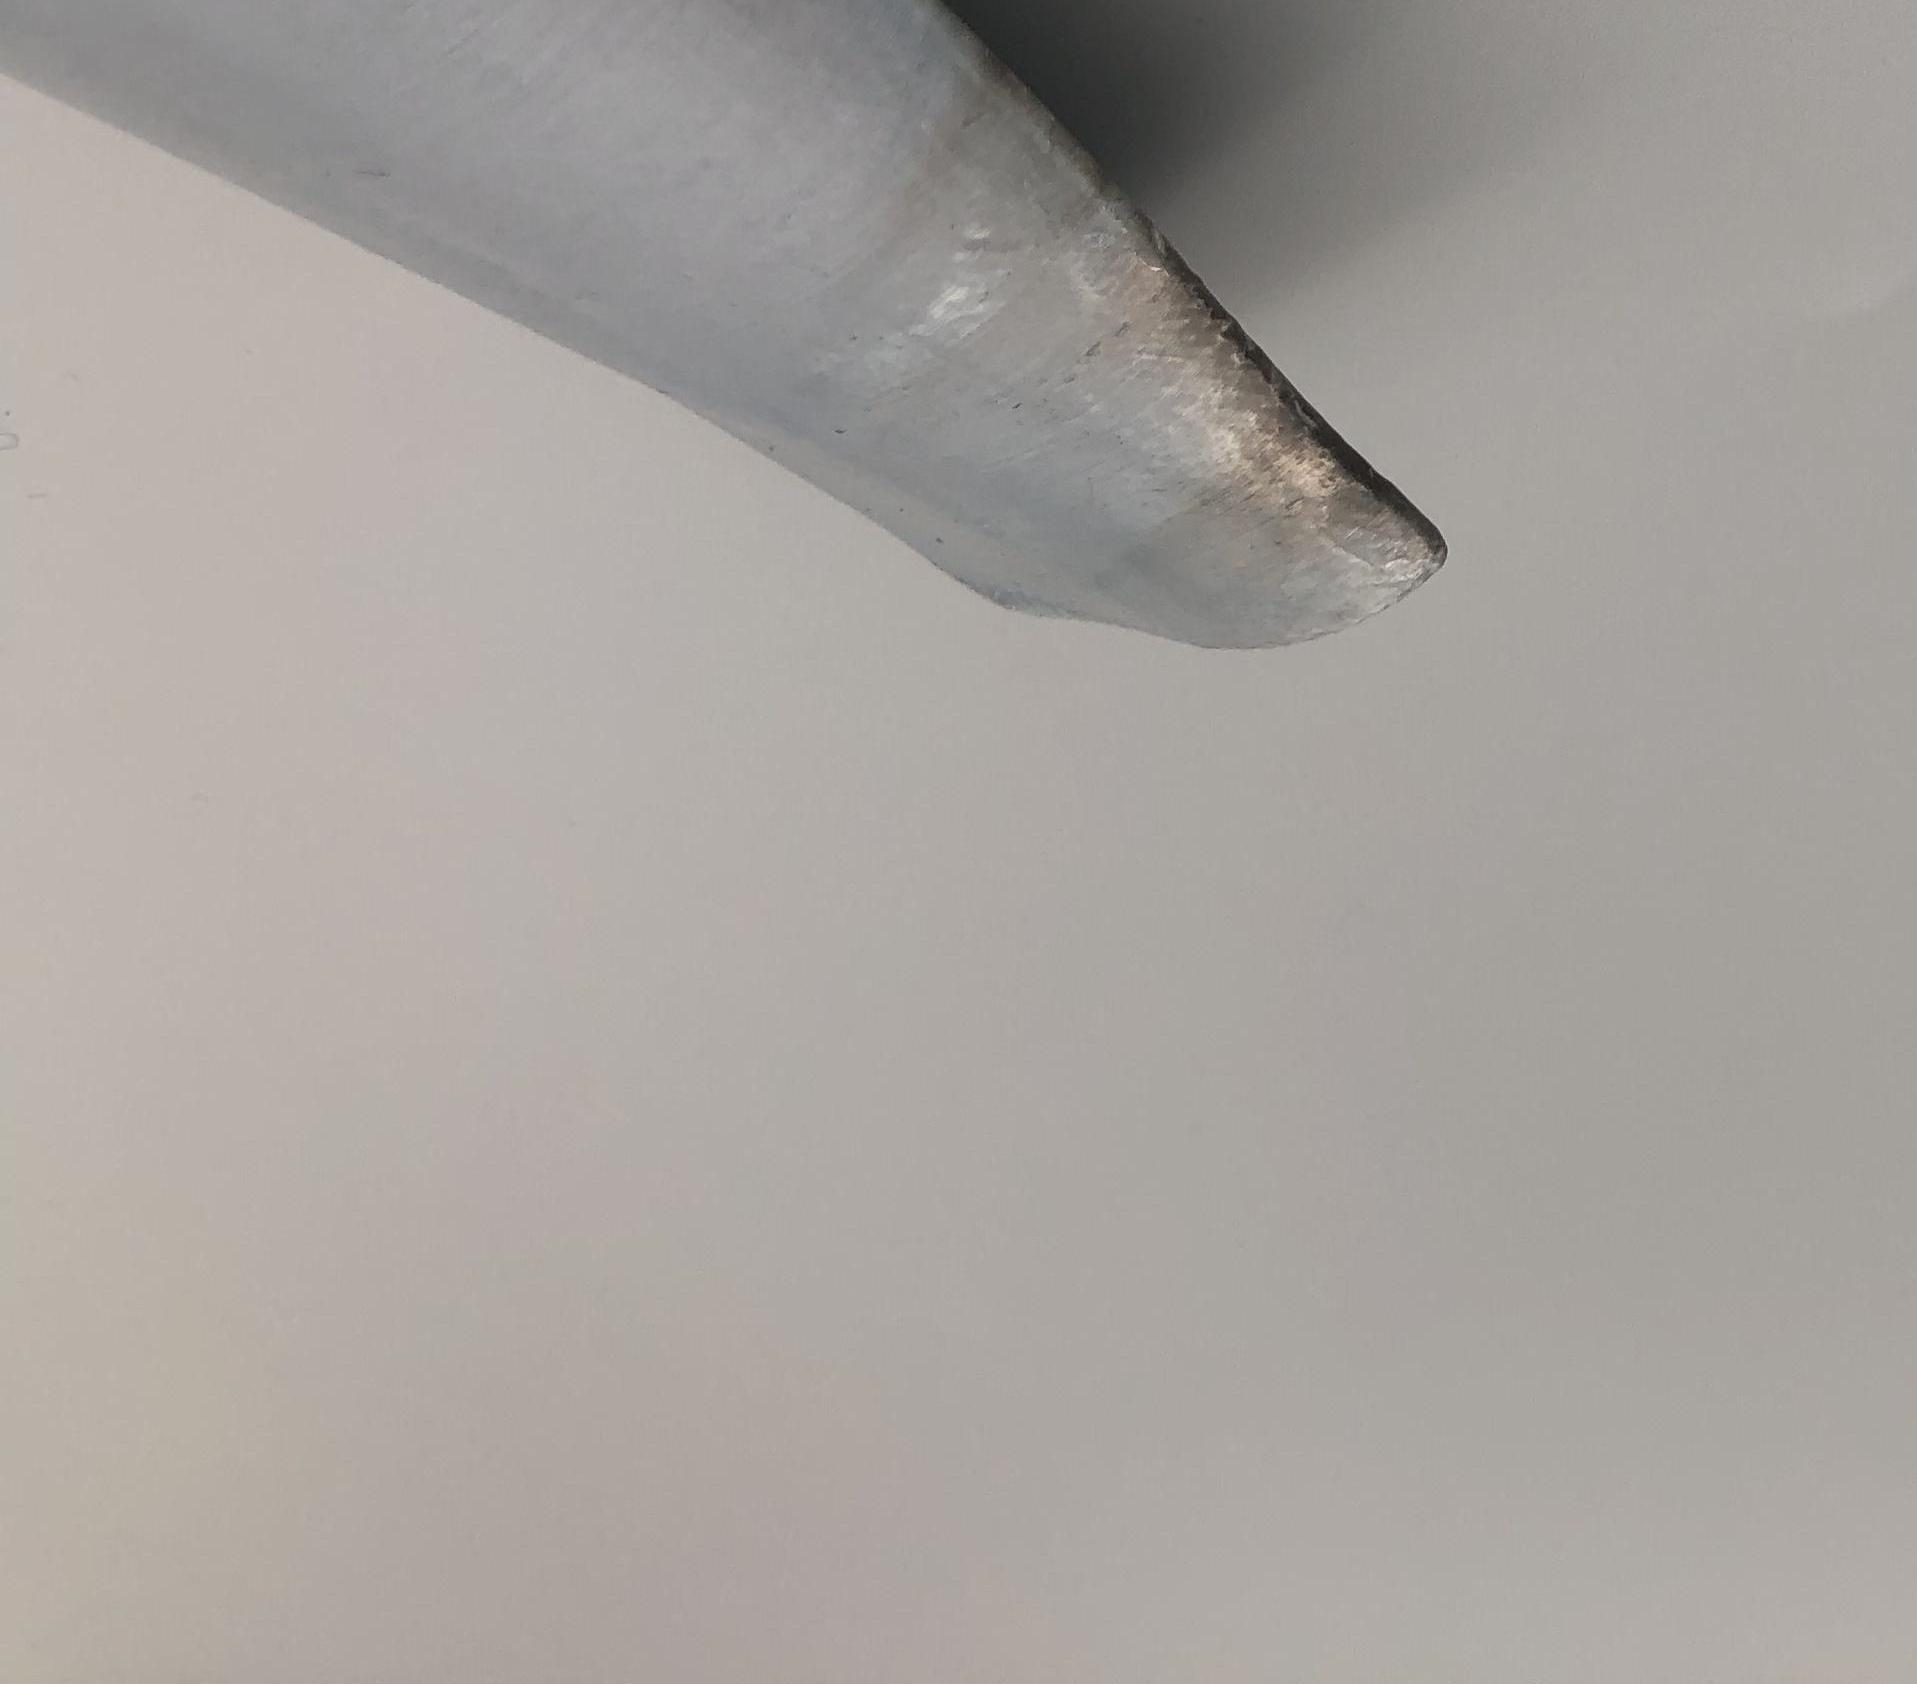ablation: (1029, 112, 1452, 556)
